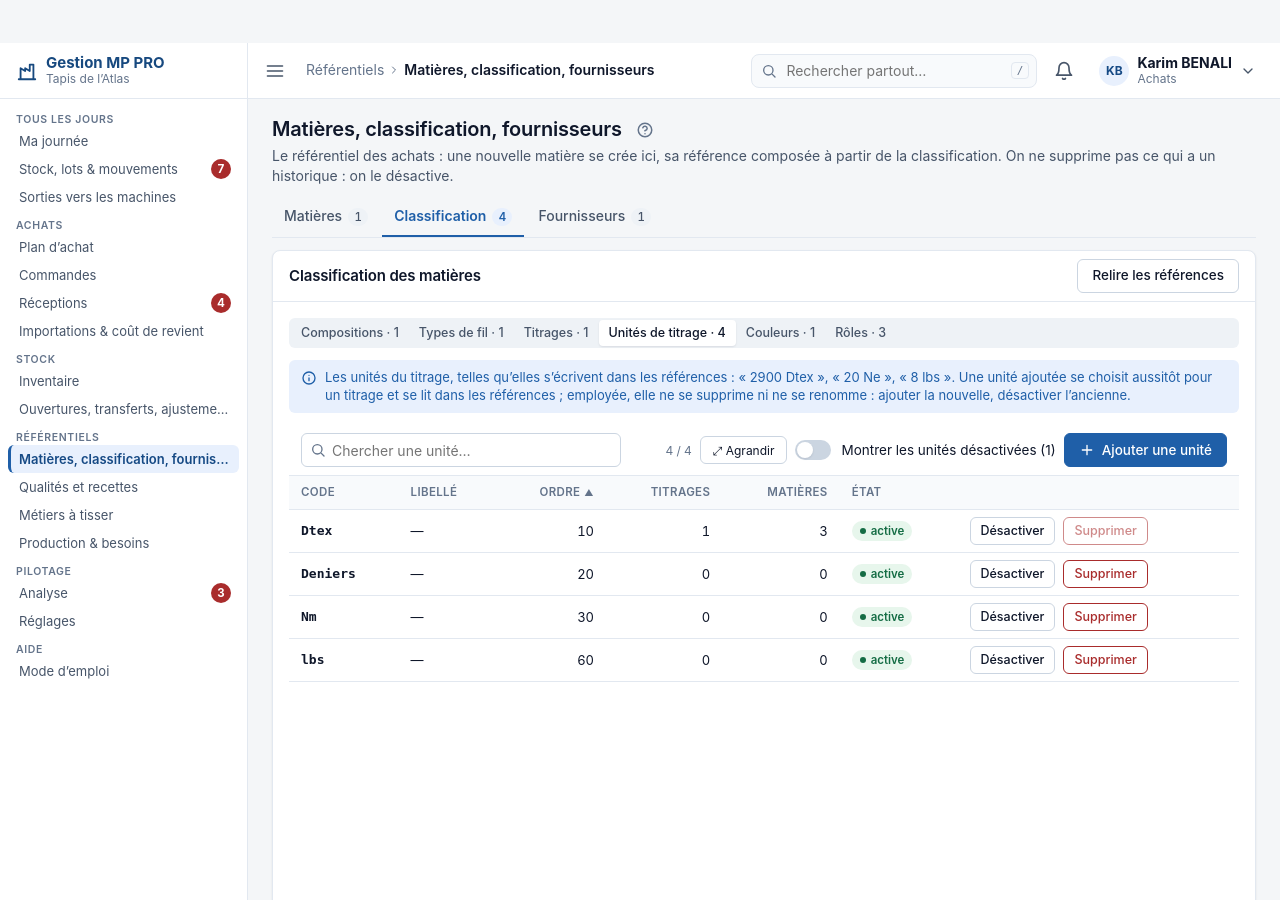
Test: Unités de titrage › la vue liste les unités actives ; « Supprimer » grisé par la raison du serveur
This screenshot has width=1280, height=900.
(page scrolled)
Expected: the text "Dtex" is shown, [301,523,332,538]
Expected: the text "Deniers" is shown, [301,566,356,581]
Click the switch labelled "Montrer les unités désactivées (1)" at (926, 450), box [796,433,1056,467]
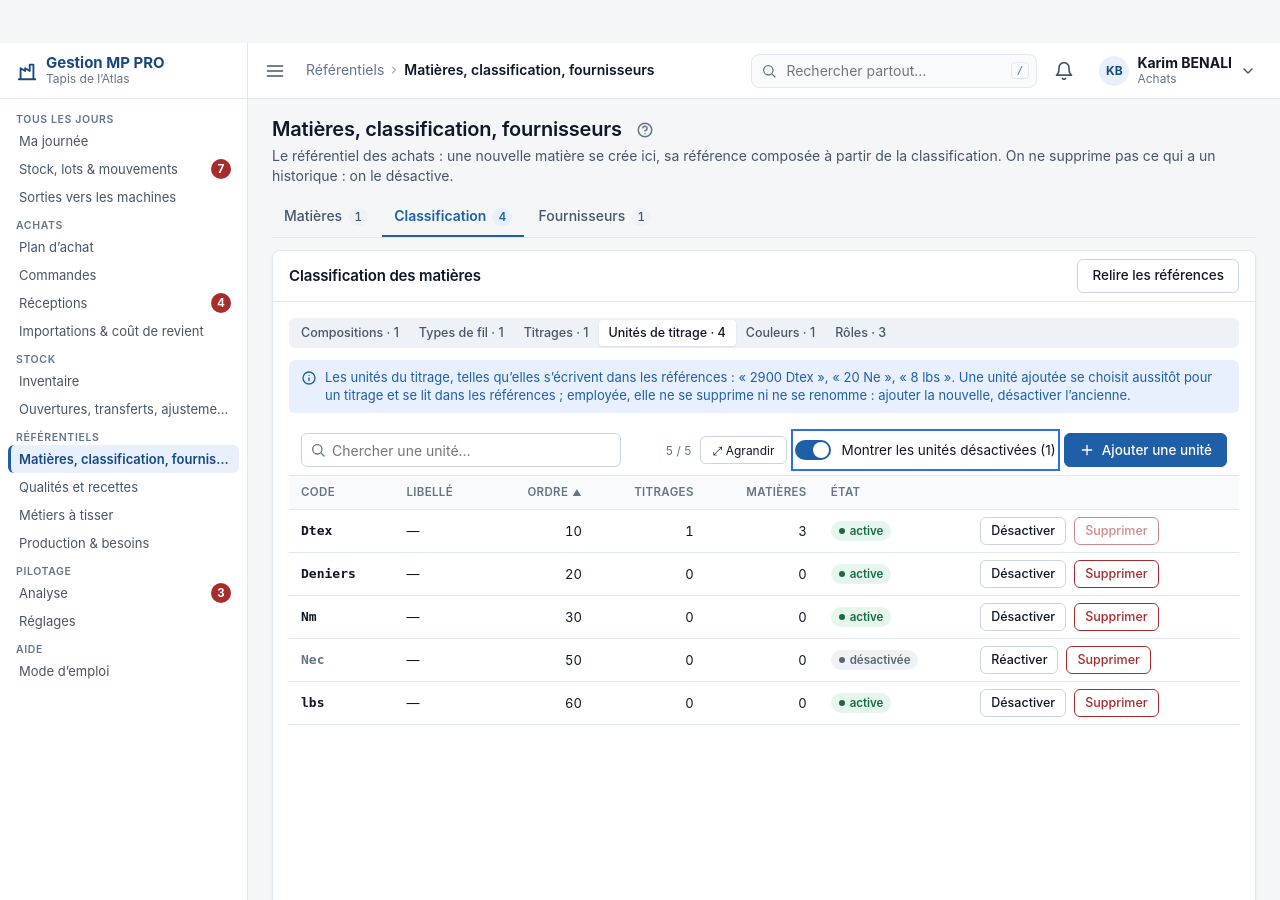
Expected: the text "Nec" is shown, [301,652,324,667]
